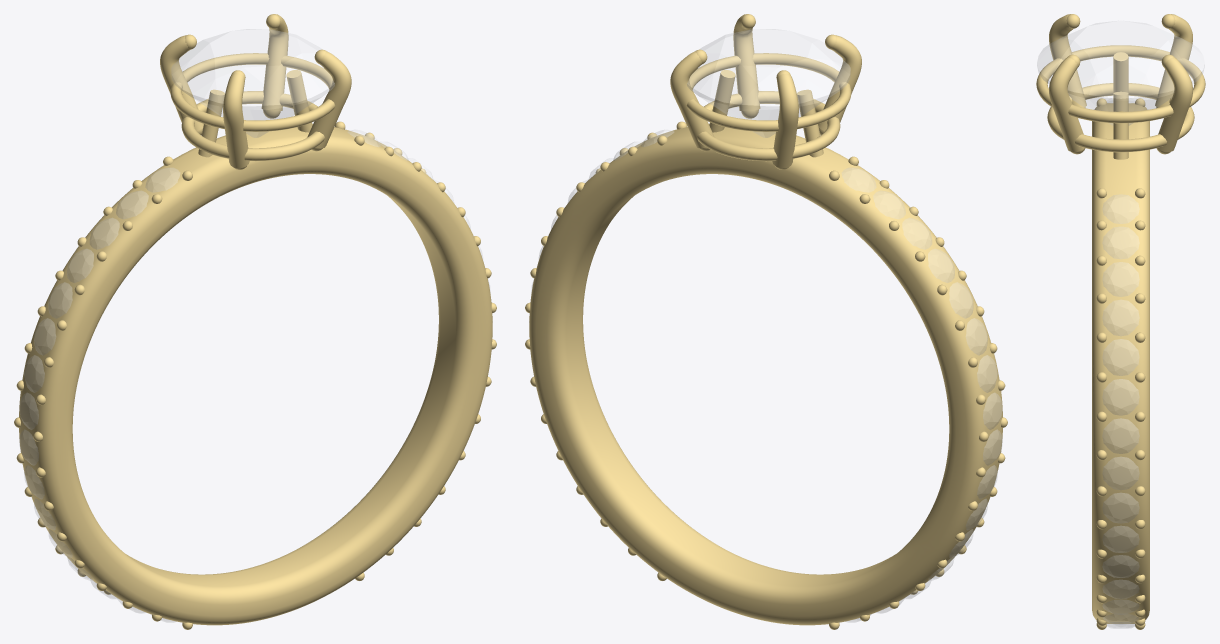
The model's file is solitaire_pave_ring.glb.
The picture shows the model from 3 angles, left to right: view 1: azimuth 30°, elevation 25°; view 2: azimuth 150°, elevation 25°; view 3: azimuth 270°, elevation 25°; orthographic projection.
Parts seen in each view (by area): view 1: solitaire_pave_ring; view 2: solitaire_pave_ring; view 3: solitaire_pave_ring.
Part boxes in pixels (left/top/right/bottom): solitaire_pave_ring: left=14, top=14, right=496, bottom=629; solitaire_pave_ring: left=525, top=14, right=1007, bottom=629; solitaire_pave_ring: left=1036, top=14, right=1205, bottom=629.
Bounding box in the file's own units: 2.08 × 2.45 × 0.6654.
